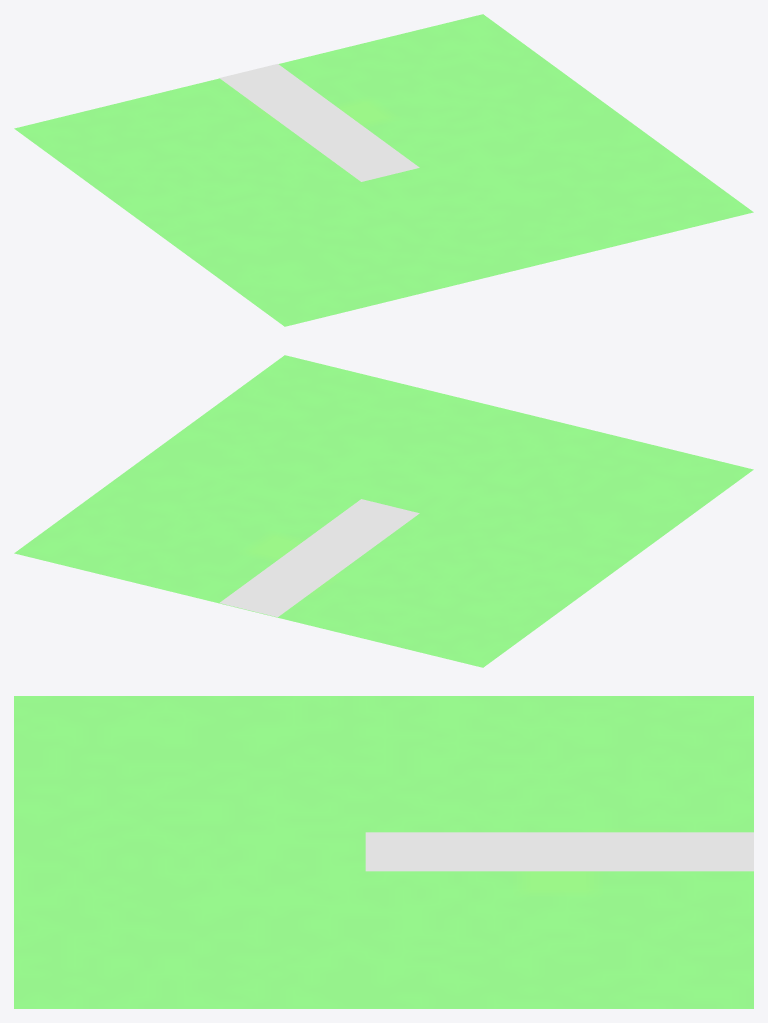
Rendered from tile_for_home_1x1.004.glb.
3 views of the same model, one above another, from view 1: azimuth 30°, elevation 25°; view 2: azimuth 150°, elevation 25°; view 3: azimuth 270°, elevation 25° (orthographic). The views are drawn at different scales.
Visible parts, largest first — view 1: tile_for_home_1x1.004(Clone); view 2: tile_for_home_1x1.004(Clone); view 3: tile_for_home_1x1.004(Clone).
Part boxes in pixels (left/top/right/bottom): tile_for_home_1x1.004(Clone): left=14, top=14, right=753, bottom=326; tile_for_home_1x1.004(Clone): left=14, top=355, right=753, bottom=667; tile_for_home_1x1.004(Clone): left=14, top=696, right=753, bottom=1008.
Bounding box in the file's own units: 8 × 0.00736 × 8.
1 material, 1 textured.
